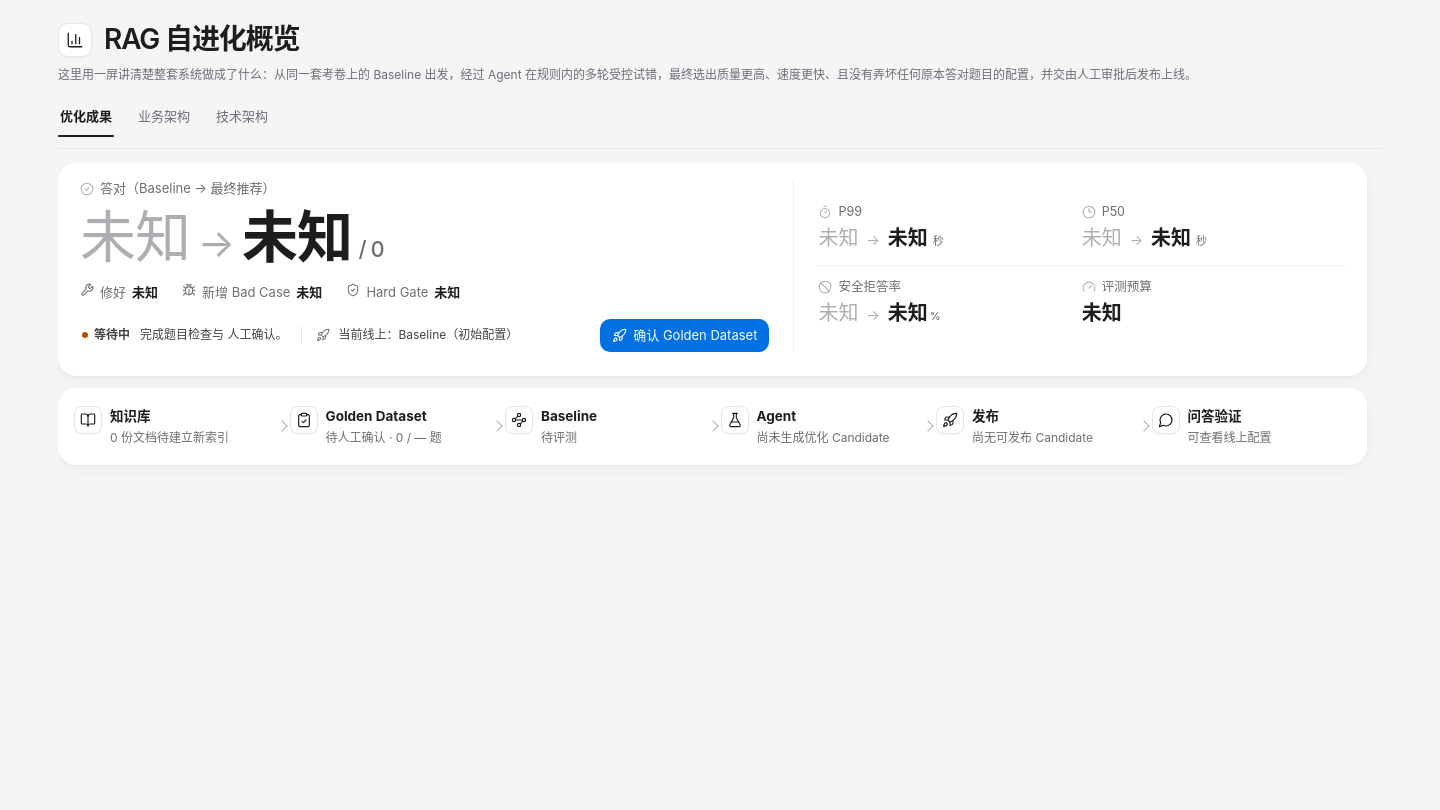
Scenario: renders project results and the new architecture tabs without writes
This screenshot has width=1440, height=810.
Later steps or results of the test are not shown.
Click the button "业务架构" at x=164, y=116, box [136,96,192,136]
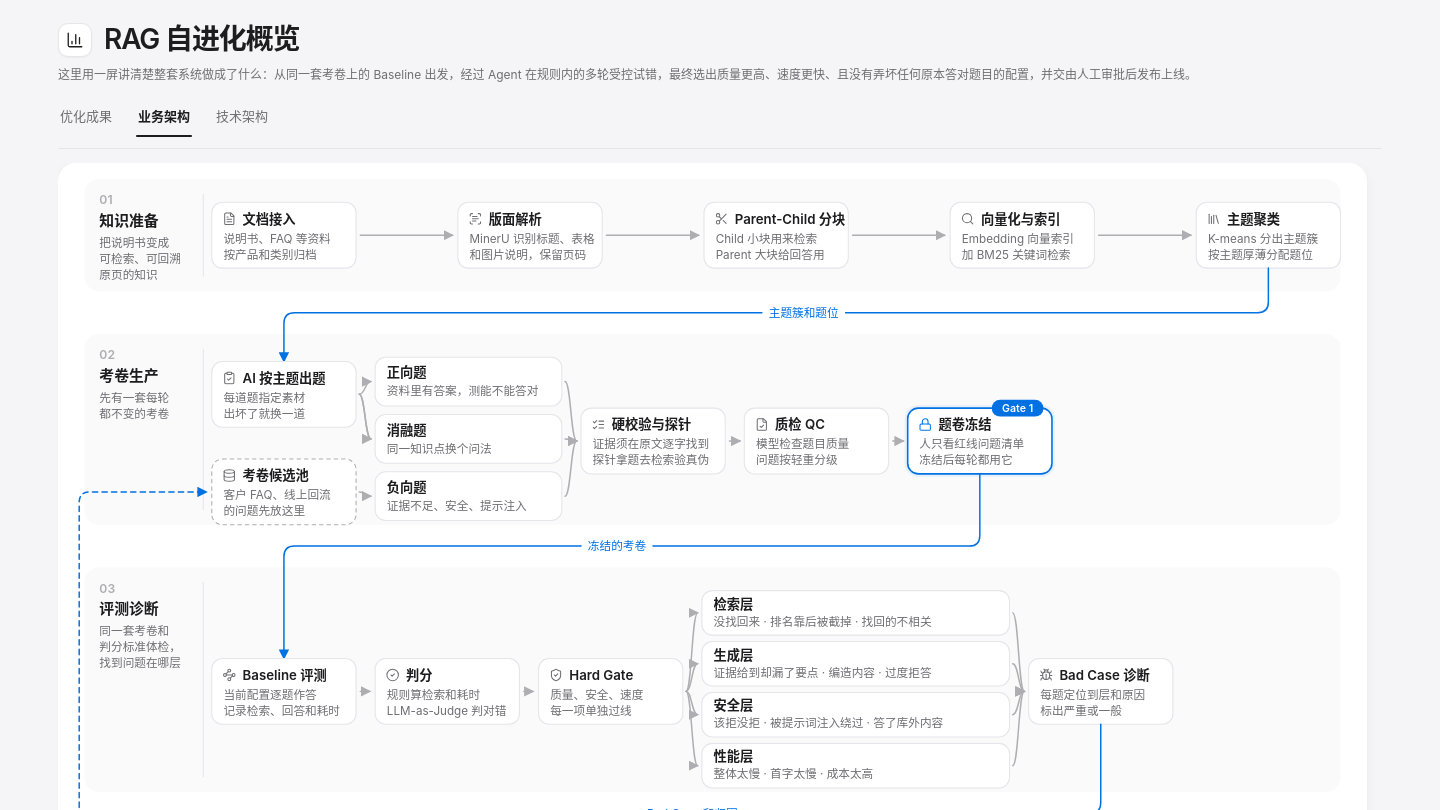
Expected: the picture named "业务架构：知识准备、考卷生产、评测诊断、Agent 优化、发布与监控五段闭环" shows "知识准备", [99,212,159,230]
Expected: the picture named "业务架构：知识准备、考卷生产、评测诊断、Agent 优化、发布与监控五段闭环" shows "考卷生产", [99,367,159,385]
Expected: the picture named "业务架构：知识准备、考卷生产、评测诊断、Agent 优化、发布与监控五段闭环" shows "评测诊断", [99,600,159,618]
